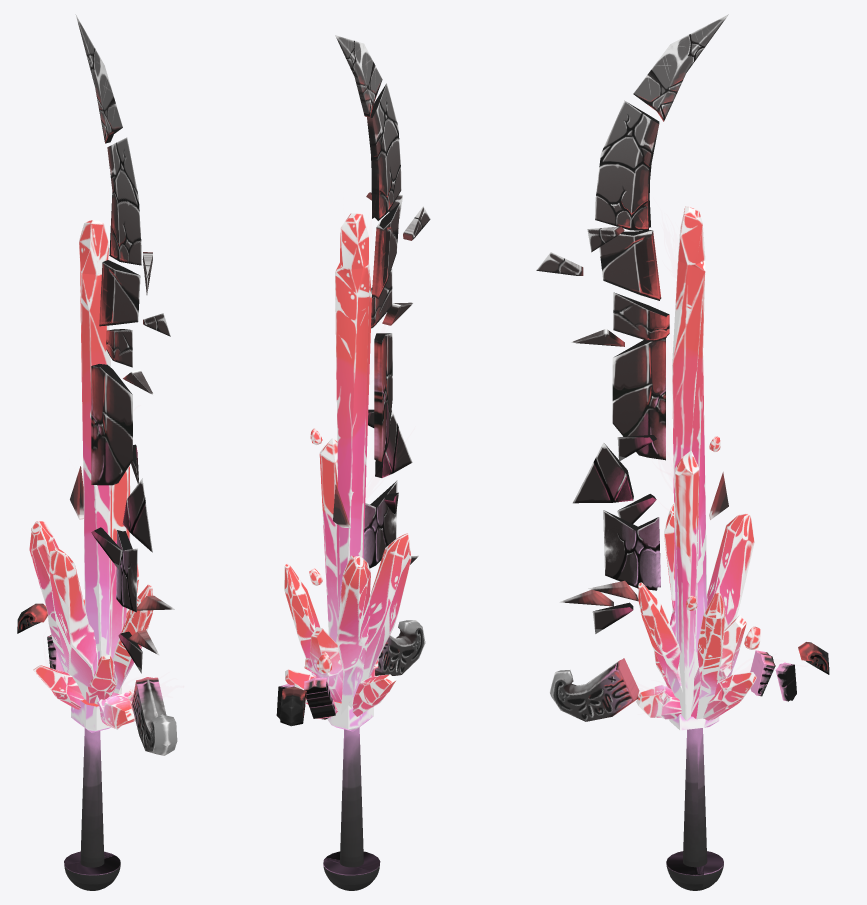
The model's file is crystal.glb.
The picture shows the model from 3 angles, left to right: view 1: azimuth 30°, elevation 25°; view 2: azimuth 150°, elevation 25°; view 3: azimuth 270°, elevation 25°; orthographic projection.
Parts seen in each view (by area): view 1: pCube1_lambert2_0, polySurface8_lambert2_0, pCube8_lambert2_0, polySurface6_lambert2_0, pCylinder1_lambert2_0, pPlane1_lambert2_0, polySurface2_lambert2_0, pCube7_lambert2_0, polySurface5_lambert2_0, pSphere2_lambert2_0, pCube3_lambert2_0, polySurface9_lambert2_0 (+9 smaller); view 2: pCube1_lambert2_0, pCube7_lambert2_0, pCube8_lambert2_0, polySurface6_lambert2_0, pCylinder1_lambert2_0, polySurface8_lambert2_0, polySurface9_lambert2_0, pPlane1_lambert2_0, polySurface5_lambert2_0, pCube9_lambert2_0, polySurface2_lambert2_0, pSphere2_lambert2_0 (+8 smaller); view 3: pCube1_lambert2_0, polySurface6_lambert2_0, polySurface8_lambert2_0, polySurface9_lambert2_0, pPlane1_lambert2_0, polySurface2_lambert2_0, polySurface5_lambert2_0, pCube7_lambert2_0, pCylinder1_lambert2_0, pCube9_lambert2_0, pCube3_lambert2_0, polySurface10_lambert2_0 (+7 smaller).
Boxes of the visible parts, x1=… form: pCube1_lambert2_0: x1=79, y1=220, x2=130, y2=694; polySurface8_lambert2_0: x1=91, y1=364, x2=132, y2=485; pCube8_lambert2_0: x1=49, y1=547, x2=99, y2=704; polySurface6_lambert2_0: x1=107, y1=137, x2=141, y2=265; pCylinder1_lambert2_0: x1=80, y1=728, x2=104, y2=867; pPlane1_lambert2_0: x1=131, y1=677, x2=177, y2=755; polySurface2_lambert2_0: x1=99, y1=260, x2=140, y2=326; pCube7_lambert2_0: x1=29, y1=521, x2=68, y2=672; polySurface5_lambert2_0: x1=75, y1=14, x2=122, y2=143; pSphere2_lambert2_0: x1=64, y1=851, x2=120, y2=890; pCube3_lambert2_0: x1=112, y1=584, x2=152, y2=693; polySurface9_lambert2_0: x1=116, y1=530, x2=137, y2=612; pCube1_lambert2_0: x1=319, y1=213, x2=371, y2=643; pCube7_lambert2_0: x1=337, y1=555, x2=370, y2=714; pCube8_lambert2_0: x1=361, y1=533, x2=411, y2=680; polySurface6_lambert2_0: x1=367, y1=83, x2=401, y2=220; pCylinder1_lambert2_0: x1=340, y1=727, x2=363, y2=867; polySurface8_lambert2_0: x1=374, y1=333, x2=392, y2=461; polySurface9_lambert2_0: x1=363, y1=480, x2=397, y2=568; pPlane1_lambert2_0: x1=375, y1=620, x2=425, y2=675; polySurface5_lambert2_0: x1=335, y1=35, x2=382, y2=117; pCube9_lambert2_0: x1=284, y1=563, x2=320, y2=675; polySurface2_lambert2_0: x1=372, y1=202, x2=400, y2=299; pSphere2_lambert2_0: x1=323, y1=851, x2=380, y2=890; pCube1_lambert2_0: x1=672, y1=206, x2=707, y2=720; polySurface6_lambert2_0: x1=595, y1=100, x2=659, y2=230; polySurface8_lambert2_0: x1=612, y1=338, x2=665, y2=460; polySurface9_lambert2_0: x1=603, y1=510, x2=660, y2=590; pPlane1_lambert2_0: x1=549, y1=658, x2=639, y2=721; polySurface2_lambert2_0: x1=599, y1=230, x2=661, y2=300; polySurface5_lambert2_0: x1=633, y1=14, x2=728, y2=121; pCube7_lambert2_0: x1=707, y1=513, x2=754, y2=629; pCylinder1_lambert2_0: x1=683, y1=728, x2=707, y2=867; pCube9_lambert2_0: x1=696, y1=592, x2=725, y2=719; pCube3_lambert2_0: x1=638, y1=582, x2=682, y2=699; polySurface10_lambert2_0: x1=573, y1=442, x2=633, y2=503.
Size of the model in its own units: 0.271 by 2.08 by 0.757.
Materials: 2 (2 with a texture image).
